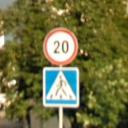speed_limit_20: (43, 26, 80, 68)
